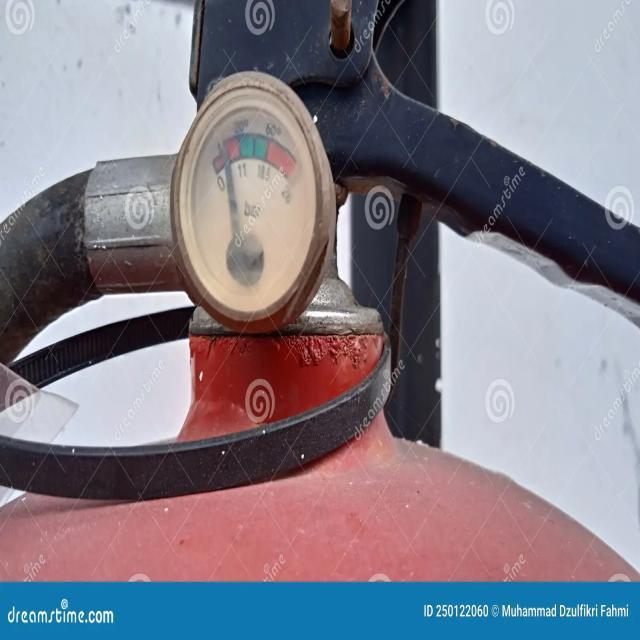pressure gauge: (171, 72, 335, 332)
